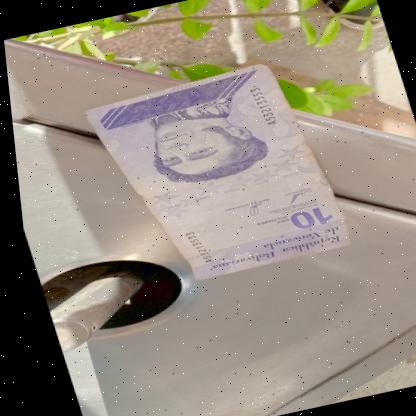ten-front-vef: (75, 57, 353, 294)
